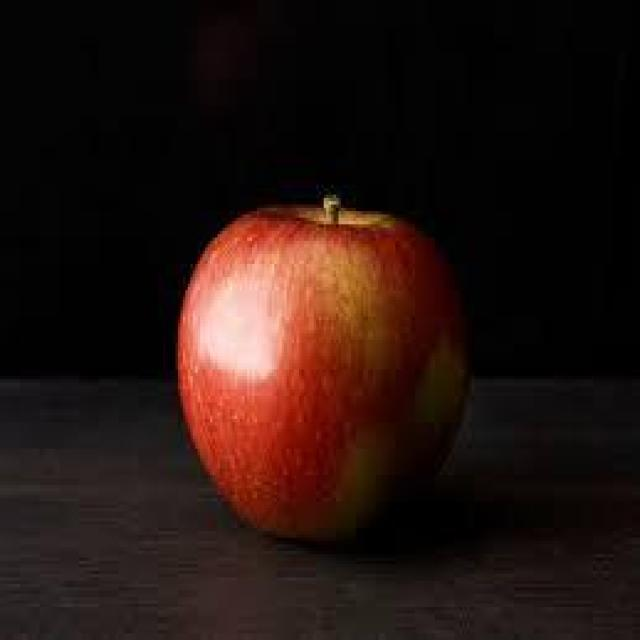apple: (171, 202, 452, 544)
